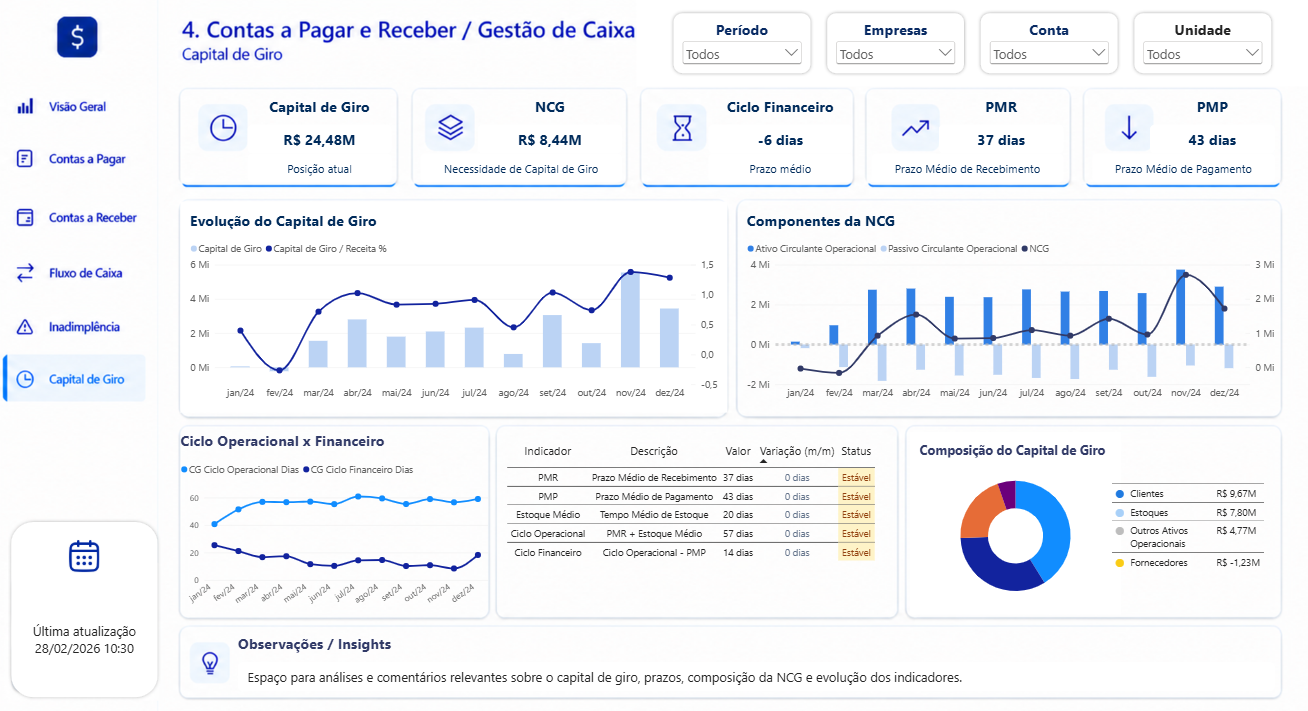

This screenshot's page, from the dashboard's own definition file:
{"tool":"powerbi","page":{"name":"Capital de Giro","canvas":[2200,1200],"ordinal":5},"visuals":[{"type":"actionButton","box":[16,512,240,64],"z":0},{"type":"actionButton","box":[16,432,240,64],"z":1000},{"type":"actionButton","box":[16,320,240,64],"z":2000},{"type":"actionButton","box":[16,240,240,64],"z":3000},{"type":"actionButton","box":[16,144,240,64],"z":4000},{"type":"shape","box":[1064,0,1136,144],"z":5000},{"type":"shape","box":[1120,16,240,112],"z":6000},{"type":"shape","box":[1376,16,240,112],"z":7000},{"type":"shape","box":[1632,16,240,112],"z":8000},{"type":"shape","box":[1888,16,240,112],"z":9000},{"type":"textbox","box":[1168,32,144,48],"z":10000},{"type":"textbox","box":[1680,32,144,48],"z":11000},{"type":"textbox","box":[1424,32,144,48],"z":12000},{"type":"textbox","box":[1904,32,208,48],"z":13000},{"type":"slicer","fields":{"Values":["dCalendario.Mes_Ano_Eixo"]},"box":[1136,64,208,48],"z":14000},{"type":"slicer","fields":{"Values":["dEmpresas.Empresa"]},"box":[1392,64,208,48],"z":15000},{"type":"slicer","fields":{"Values":["dContasBancarias.Conta"]},"box":[1648,64,208,48],"z":16000},{"type":"slicer","fields":{"Values":["dUnidades.Unidade"]},"box":[1904,64,208,48],"z":17000},{"type":"cardVisual","title":"Capital de Giro","fields":{"Data":["Medidas Capital de Giro.Texto CG Capital de Giro"]},"box":[416,160,240,96],"z":18000},{"type":"cardVisual","title":"NCG","fields":{"Data":["Medidas Capital de Giro.Texto CG NCG"]},"box":[800,160,240,96],"z":19000},{"type":"cardVisual","title":"Ciclo Financeiro","fields":{"Data":["Medidas Capital de Giro.Texto CG Ciclo Financeiro"]},"box":[1184,160,240,96],"z":20000},{"type":"cardVisual","title":"PMR","fields":{"Data":["Medidas Capital de Giro.Texto CG PMR"]},"box":[1568,160,208,96],"z":21000},{"type":"cardVisual","title":"PMP","fields":{"Data":["Medidas Capital de Giro.Texto CG PMP"]},"box":[1920,160,208,96],"z":22000},{"type":"cardVisual","fields":{"Data":["Medidas Capital de Giro.Subtexto CG Capital de Giro"]},"box":[416,256,240,48],"z":23000},{"type":"cardVisual","fields":{"Data":["Medidas Capital de Giro.Subtexto CG NCG"]},"box":[704,256,336,48],"z":24000},{"type":"cardVisual","fields":{"Data":["Medidas Capital de Giro.Subtexto CG Ciclo Financeiro"]},"box":[1184,256,240,48],"z":25000},{"type":"cardVisual","fields":{"Data":["Medidas Capital de Giro.Subtexto CG PMR"]},"box":[1456,256,320,48],"z":26000},{"type":"cardVisual","fields":{"Data":["Medidas Capital de Giro.Subtexto CG PMP"]},"box":[1824,256,304,48],"z":27000},{"type":"lineClusteredColumnComboChart","title":"Evolução do Capital de Giro","fields":{"Category":["dCalendario.Mes_Ano_Eixo"],"Y":["Medidas Capital de Giro.CG Capital de Giro R$ Gráfico"],"Y2":["Medidas Capital de Giro.CG Capital de Giro / Receita % Gráfico"]},"box":[304,336,912,352],"z":28000},{"type":"lineClusteredColumnComboChart","title":"Componentes da NCG","fields":{"Y":["Medidas Capital de Giro.CG ACO Gráfico","Medidas Capital de Giro.CG PCO Gráfico"],"Category":["dCalendario.Mes_Ano_Eixo"],"Y2":["Medidas Capital de Giro.CG NCG Gráfico"]},"box":[1232,336,912,352],"z":29000},{"type":"lineChart","title":"Ciclo Operacional x Financeiro","fields":{"Category":["dCalendario.Mes_Ano_Eixo"],"Y":["Medidas Capital de Giro.CG Ciclo Operacional Dias","Medidas Capital de Giro.CG Ciclo Financeiro Dias"]},"box":[288,704,544,336],"z":30000},{"type":"tableEx","fields":{"Values":["dIndicadoresPrazoCG.Indicador","dIndicadoresPrazoCG.Descrição","Medidas Capital de Giro.CG Texto Valor Indicador Prazo","Medidas Capital de Giro.CG Texto Variação Indicador Prazo","Medidas Capital de Giro.CG Status Indicador Prazo"]},"box":[832,720,656,304],"z":31000},{"type":"donutChart","title":"Composição do Capital de Giro","fields":{"Y":["Medidas Capital de Giro.CG Valor Rosca Composição"],"Category":["dComposicaoCapitalGiro.Componente"]},"box":[1520,720,352,304],"z":32000},{"type":"tableEx","fields":{"Values":["Medidas Capital de Giro.Bolinha CG Composição","dComposicaoCapitalGiro.Componente","Medidas Capital de Giro.Texto CG Valor Composição"]},"box":[1840,752,304,224],"z":33000},{"type":"cardVisual","title":"Observações / Insights","fields":{"Data":["Medidas Capital de Giro.Insight Capital de Giro"]},"box":[400,1056,1728,96],"z":34000},{"type":"shape","box":[16,864,256,304],"z":35000},{"type":"cardVisual","fields":{"Data":["Medidas Capital de Giro.Texto CG Última Atualização"]},"box":[32,976,224,176],"z":36000},{"type":"image","box":[80,896,128,64],"z":37000}]}

Visuals, with their boxes on the page's 2200x1200 design canvas (x1, y1, x2, y2). These are canvas units, not pixel positions in the 1308x711 screenshot, which may show the page scaled, cropped or inside an application window:
actionButton: 16:512:256:576
actionButton: 16:432:256:496
actionButton: 16:320:256:384
actionButton: 16:240:256:304
actionButton: 16:144:256:208
shape: 1064:0:2200:144
shape: 1120:16:1360:128
shape: 1376:16:1616:128
shape: 1632:16:1872:128
shape: 1888:16:2128:128
textbox: 1168:32:1312:80
textbox: 1680:32:1824:80
textbox: 1424:32:1568:80
textbox: 1904:32:2112:80
slicer - dCalendario.Mes_Ano_Eixo: 1136:64:1344:112
slicer - dEmpresas.Empresa: 1392:64:1600:112
slicer - dContasBancarias.Conta: 1648:64:1856:112
slicer - dUnidades.Unidade: 1904:64:2112:112
"Capital de Giro" cardVisual: 416:160:656:256
"NCG" cardVisual: 800:160:1040:256
"Ciclo Financeiro" cardVisual: 1184:160:1424:256
"PMR" cardVisual: 1568:160:1776:256
"PMP" cardVisual: 1920:160:2128:256
cardVisual - Medidas Capital de Giro.Subtexto CG Capital de Giro: 416:256:656:304
cardVisual - Medidas Capital de Giro.Subtexto CG NCG: 704:256:1040:304
cardVisual - Medidas Capital de Giro.Subtexto CG Ciclo Financeiro: 1184:256:1424:304
cardVisual - Medidas Capital de Giro.Subtexto CG PMR: 1456:256:1776:304
cardVisual - Medidas Capital de Giro.Subtexto CG PMP: 1824:256:2128:304
"Evolução do Capital de Giro" lineClusteredColumnComboChart: 304:336:1216:688
"Componentes da NCG" lineClusteredColumnComboChart: 1232:336:2144:688
"Ciclo Operacional x Financeiro" lineChart: 288:704:832:1040
tableEx - dIndicadoresPrazoCG.Indicador x dIndicadoresPrazoCG.Descrição: 832:720:1488:1024
"Composição do Capital de Giro" donutChart: 1520:720:1872:1024
tableEx - Medidas Capital de Giro.Bolinha CG Composição x dComposicaoCapitalGiro.Componente: 1840:752:2144:976
"Observações / Insights" cardVisual: 400:1056:2128:1152
shape: 16:864:272:1168
cardVisual - Medidas Capital de Giro.Texto CG Última Atualização: 32:976:256:1152
image: 80:896:208:960
